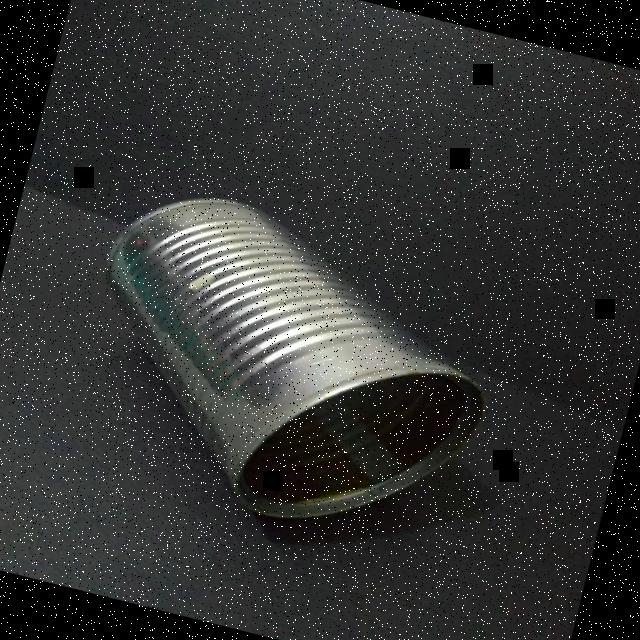can: (50, 167, 528, 573)
